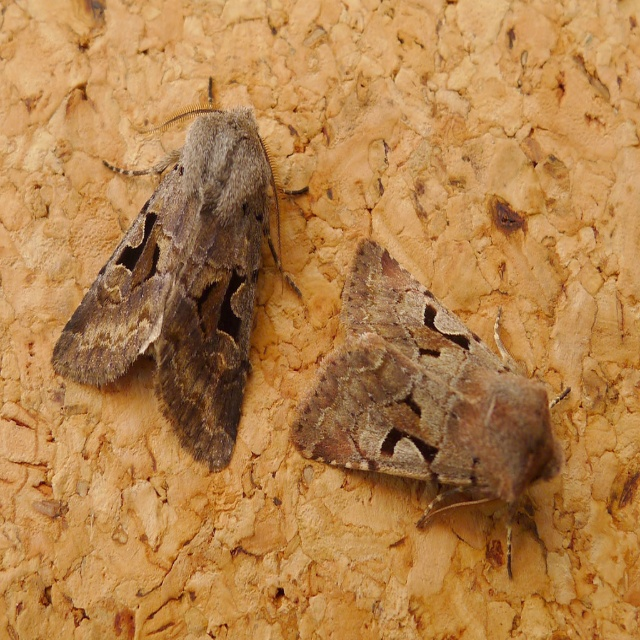Moths and butterflies: (48, 77, 313, 474), (290, 231, 577, 585)
